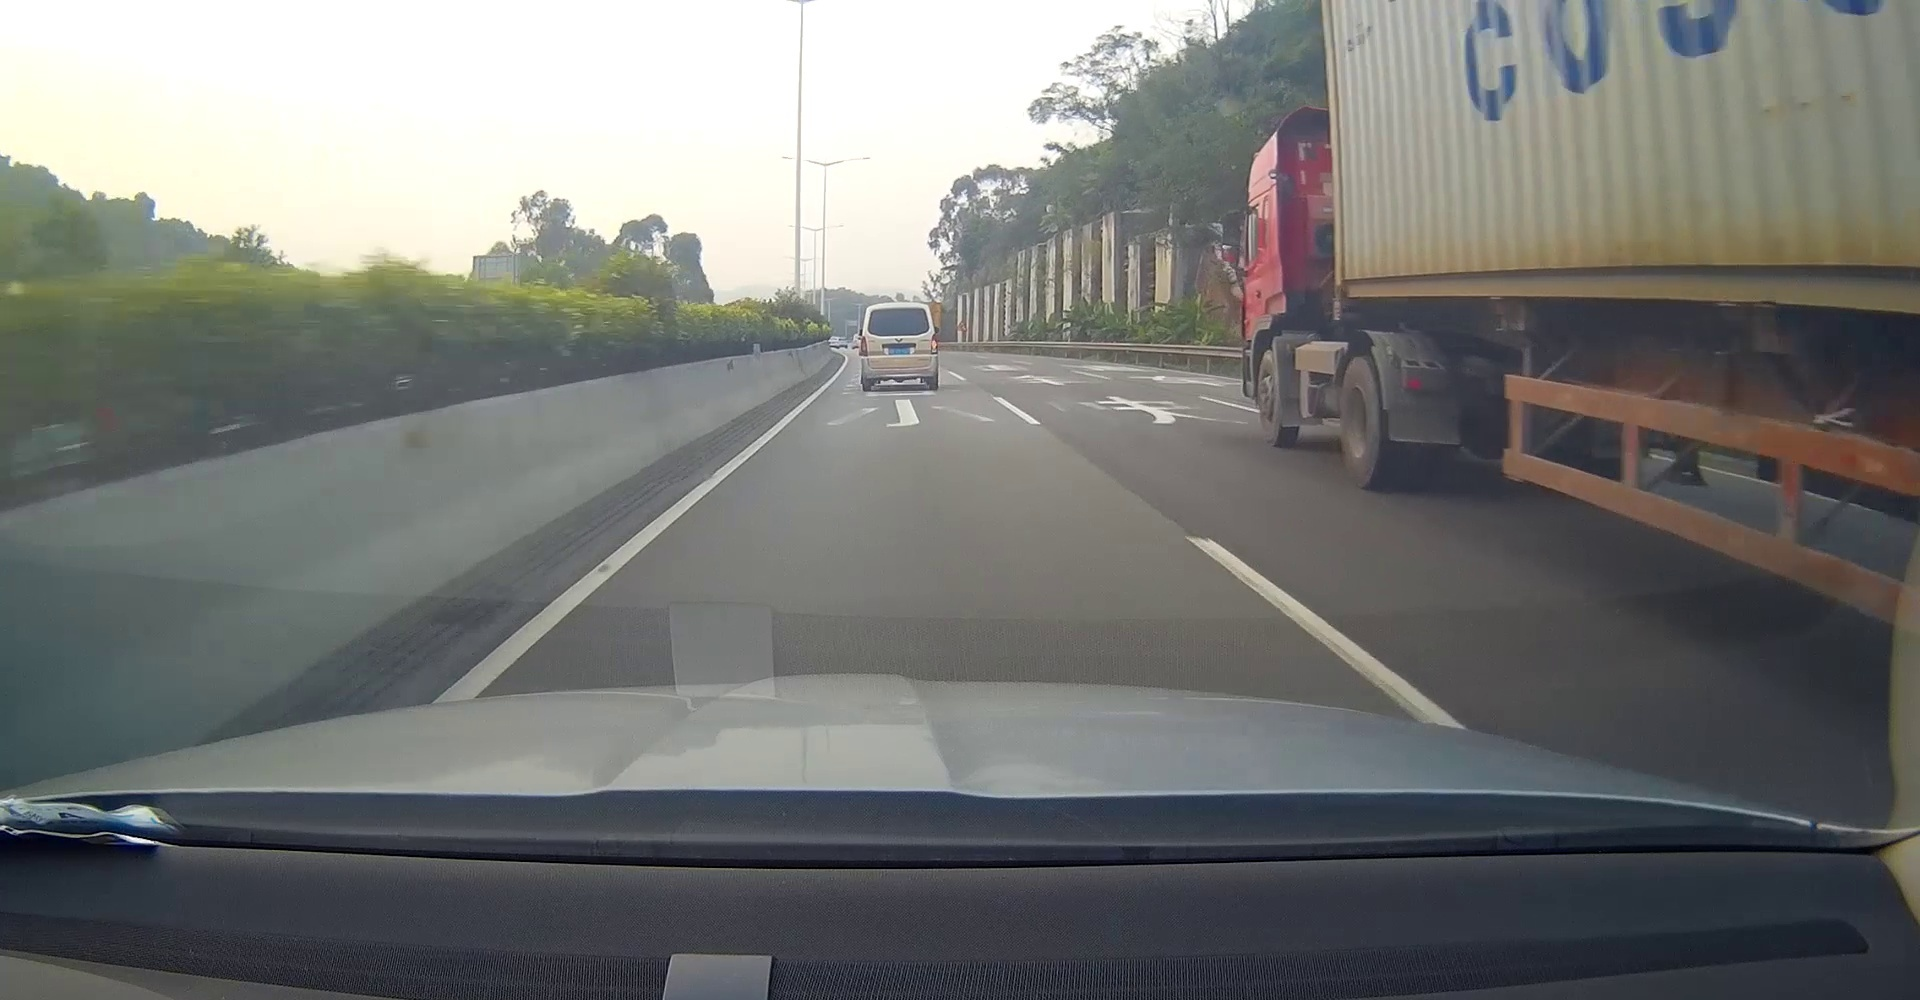L_light: (858, 336, 869, 357)
R_light: (931, 332, 938, 354)
T_light: (891, 308, 905, 310)
day-no: (858, 302, 938, 391)
